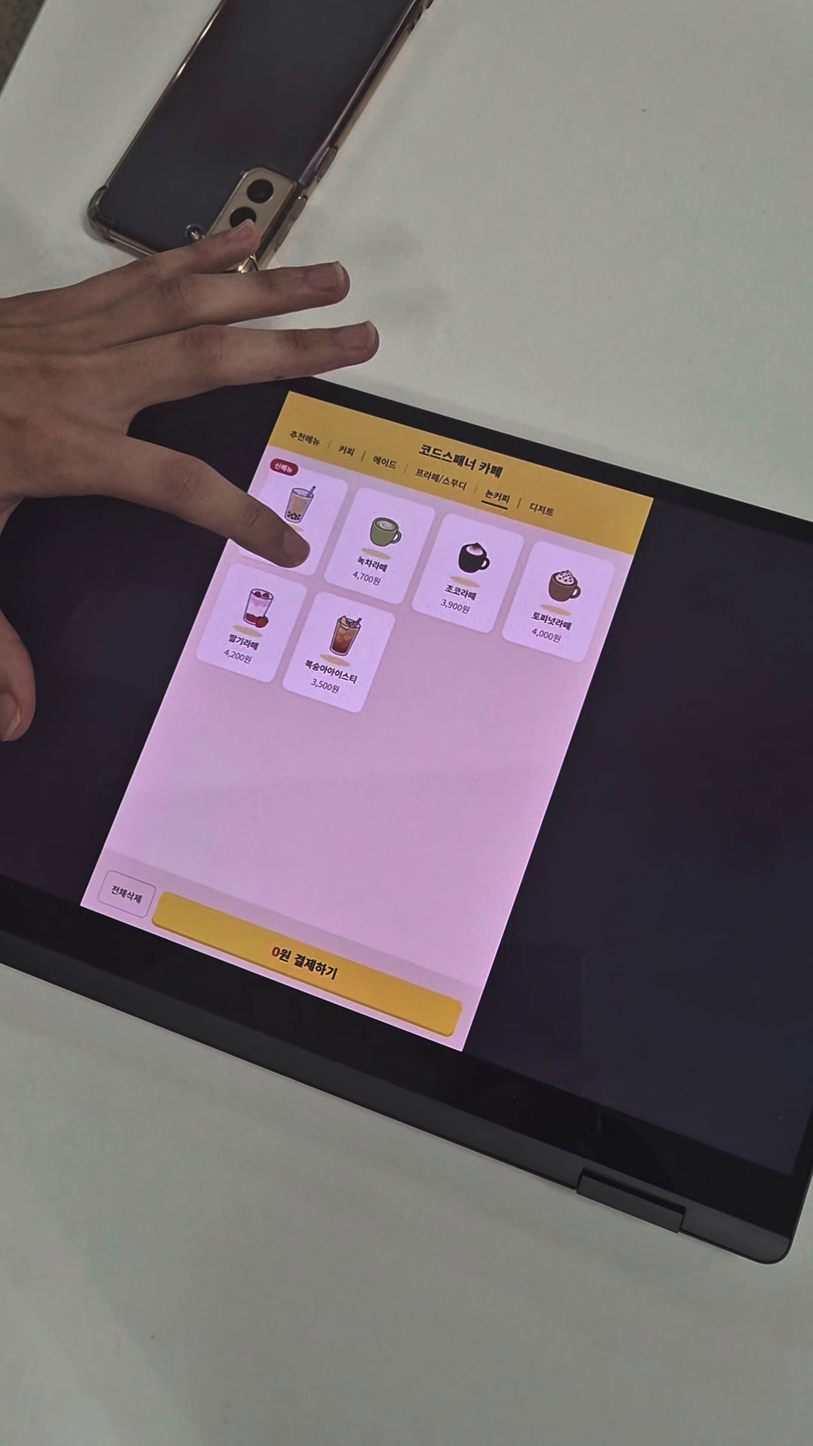action_button: (148, 889, 464, 1040), (90, 868, 157, 919)
category_tab: (411, 464, 470, 494), (282, 424, 326, 451), (525, 499, 558, 520), (481, 487, 513, 506), (370, 451, 399, 471), (334, 441, 357, 460)
menu_back: (497, 538, 618, 669), (318, 482, 439, 611), (279, 588, 400, 717), (408, 511, 528, 639), (192, 560, 311, 687)
menu_name: (299, 655, 364, 689), (526, 608, 577, 634), (349, 551, 391, 577), (223, 630, 263, 654), (440, 580, 481, 602)
menu_price: (306, 674, 344, 697), (434, 597, 473, 618), (219, 644, 256, 666), (527, 625, 565, 646), (347, 568, 384, 589)
